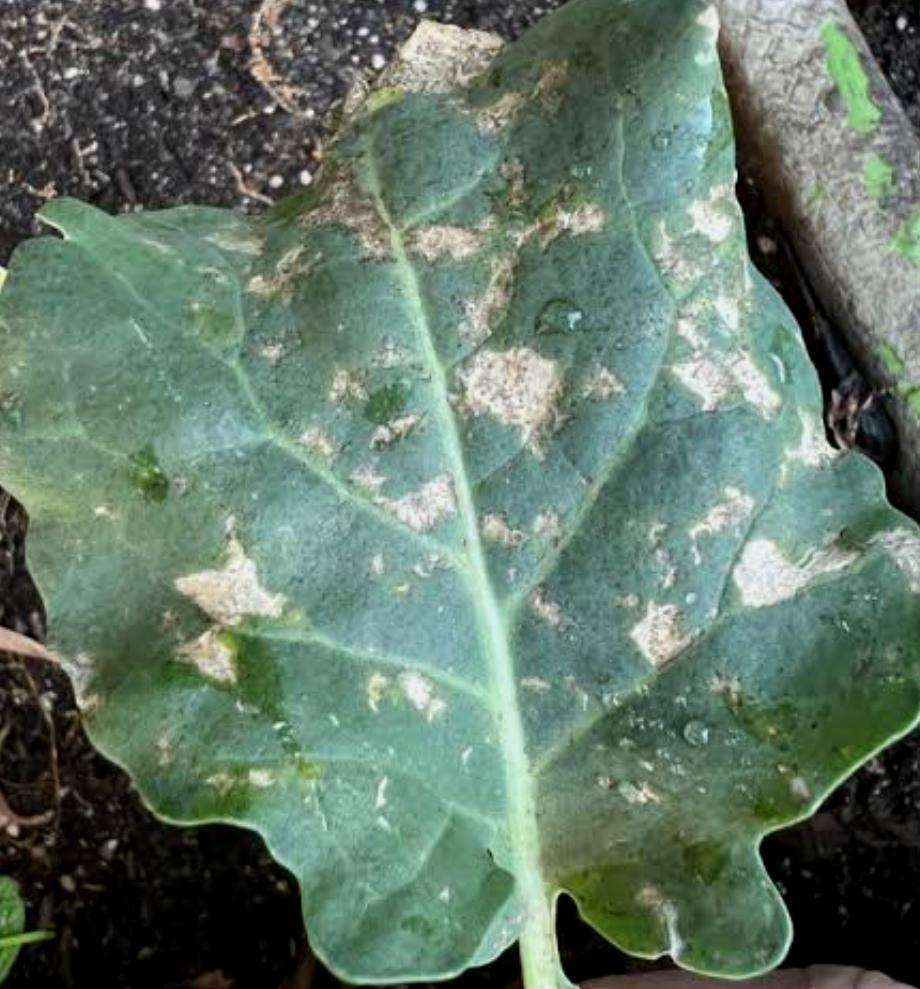Bok-Choy-Diseased: (68, 118, 805, 846)
